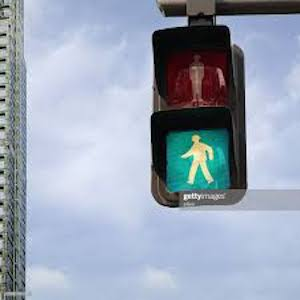green: (169, 132, 230, 193)
